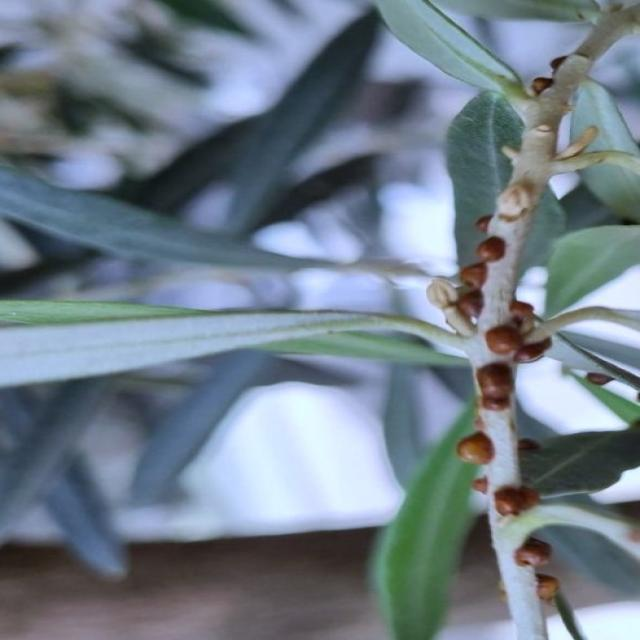BlackScale: (476, 299, 564, 411), (444, 236, 504, 336), (494, 486, 539, 516), (456, 430, 490, 466), (514, 536, 550, 568), (536, 574, 558, 602)
